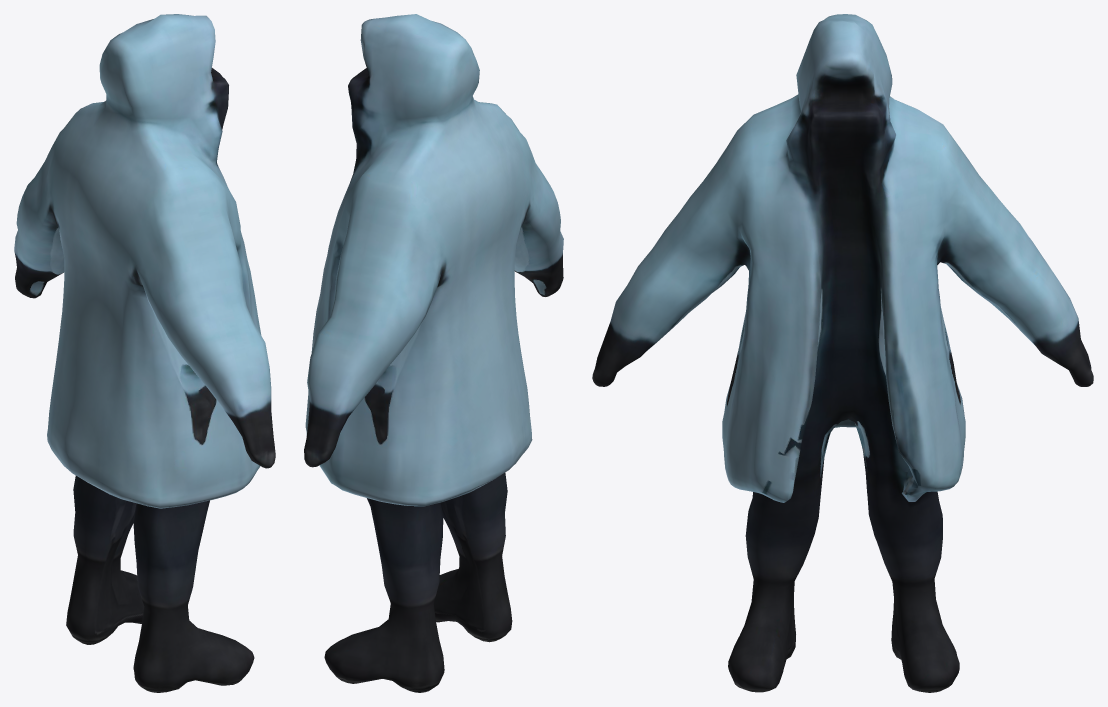
File: pedestrian4.glb
The picture shows the model from 3 angles, left to right: view 1: azimuth 30°, elevation 25°; view 2: azimuth 150°, elevation 25°; view 3: azimuth 270°, elevation 25°; orthographic projection. The views are drawn at different scales.
Visible parts, largest first — view 1: mesh; view 2: mesh; view 3: mesh.
Boxes of the visible parts, x1,y1,x2,y2 form: mesh: (14, 14, 275, 692); mesh: (304, 14, 563, 692); mesh: (592, 14, 1093, 692).
Size of the model in its own units: 0.2856 by 0.9991 by 0.685.
Materials: 1 (1 with a texture image).
